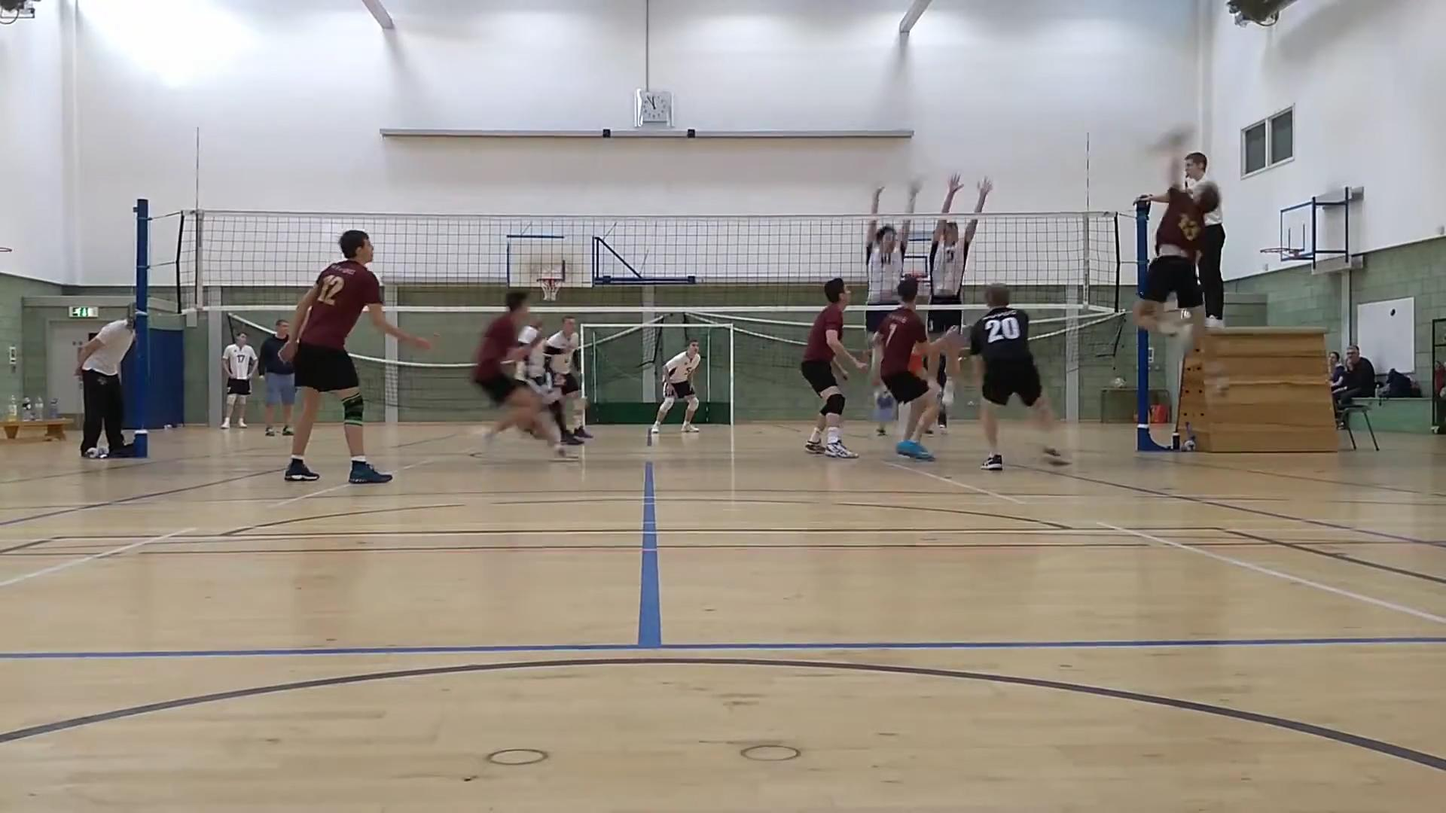attacco: (1132, 127, 1229, 362)
muro: (925, 165, 993, 432), (859, 170, 921, 435)
